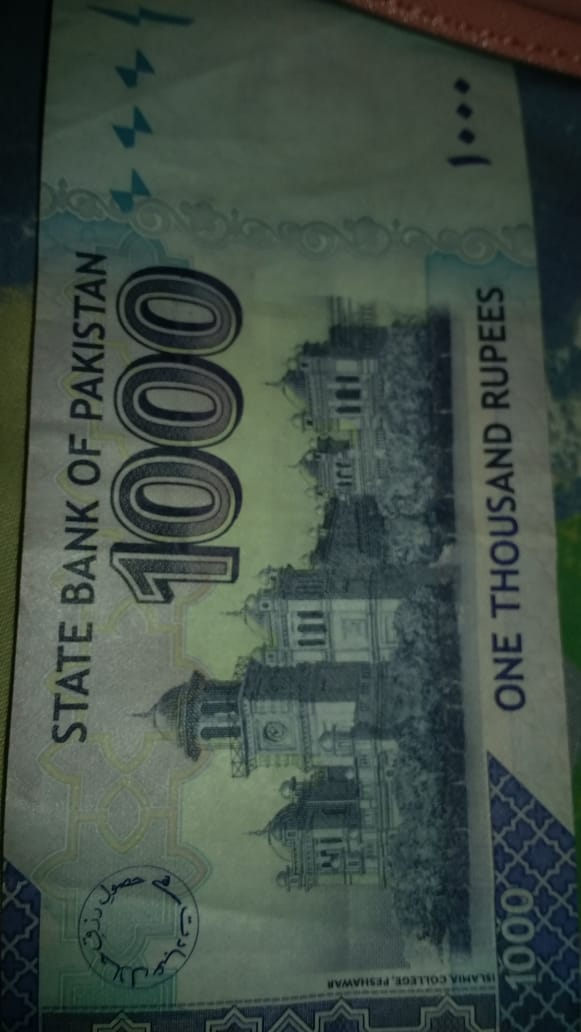1000 rupee: (31, 15, 554, 1028)
